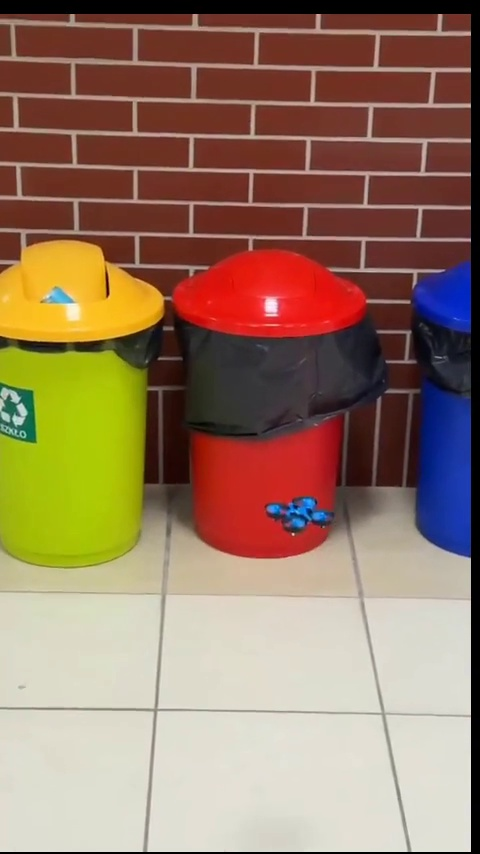drone: (263, 491, 336, 540)
